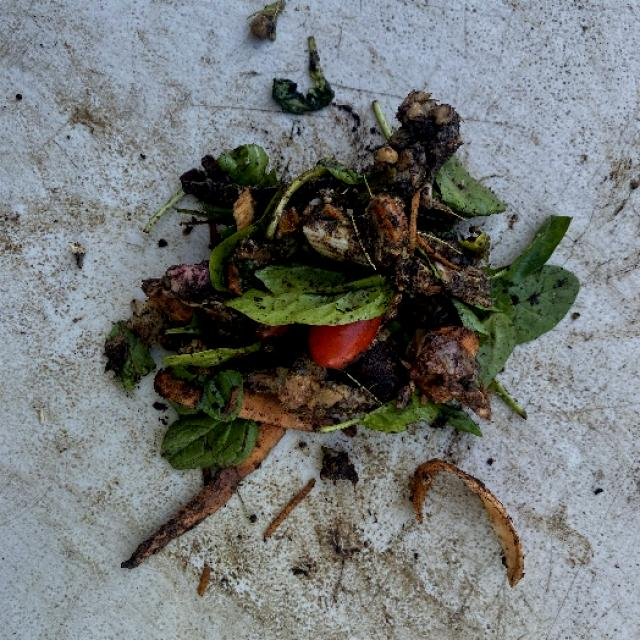wet: (143, 145, 274, 238), (307, 313, 384, 370)
